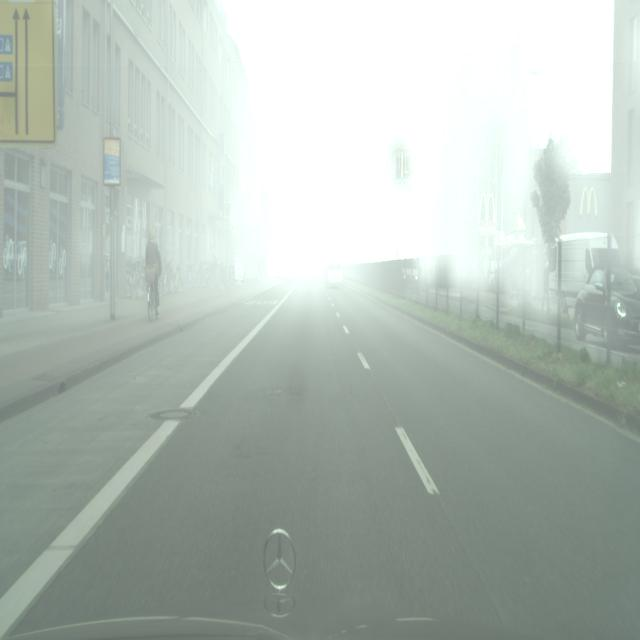bicycle: (549, 230, 621, 308)
bus: (574, 266, 632, 343), (326, 262, 344, 289)
car: (146, 228, 161, 321)
person: (541, 261, 551, 312)
